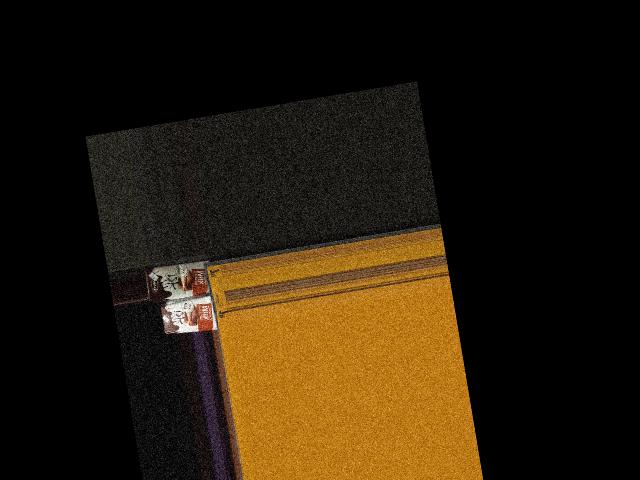chocolate: (158, 294, 224, 341)
